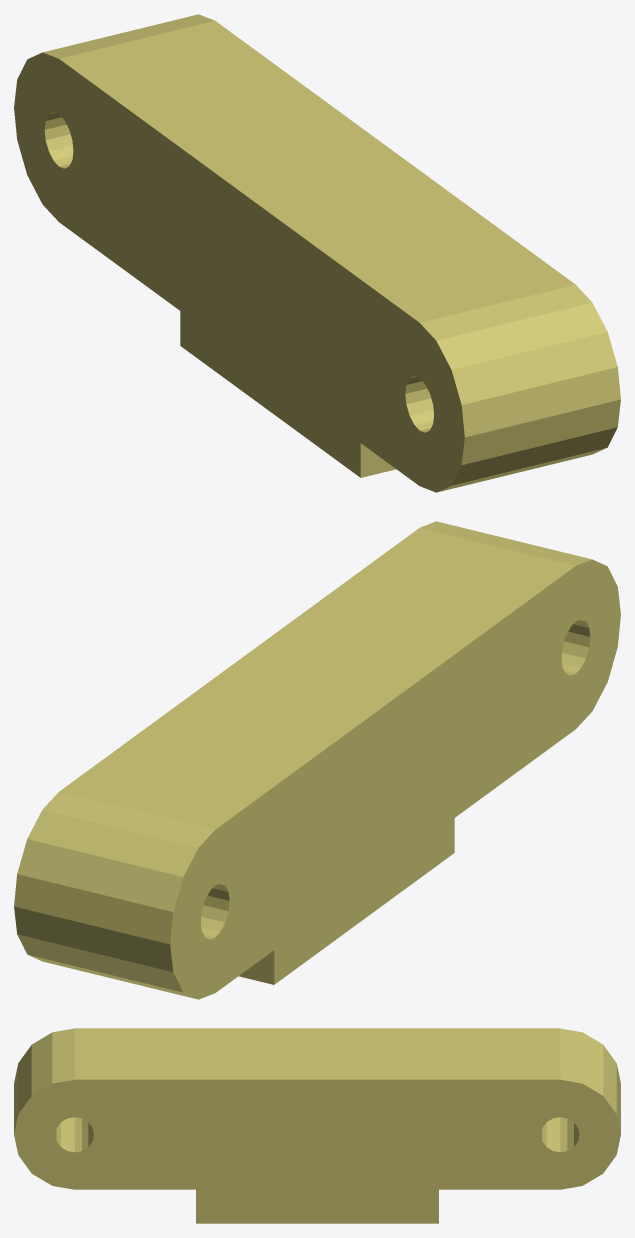
The model's file is LARM_MIDDLE3_LINK_mesh.dae.
3 views of the same model, one above another, from view 1: azimuth 30°, elevation 25°; view 2: azimuth 150°, elevation 25°; view 3: azimuth 270°, elevation 25° (orthographic). The views are drawn at different scales.
Visible parts, largest first — view 1: LARM_MIDDLE3_LINK; view 2: LARM_MIDDLE3_LINK; view 3: LARM_MIDDLE3_LINK.
Part boxes in pixels (<box>): LARM_MIDDLE3_LINK: <box>14,14,620,492</box>; LARM_MIDDLE3_LINK: <box>14,521,620,999</box>; LARM_MIDDLE3_LINK: <box>14,1028,620,1223</box>.
Size of the model in its own units: 0.01 by 0.014 by 0.05.
